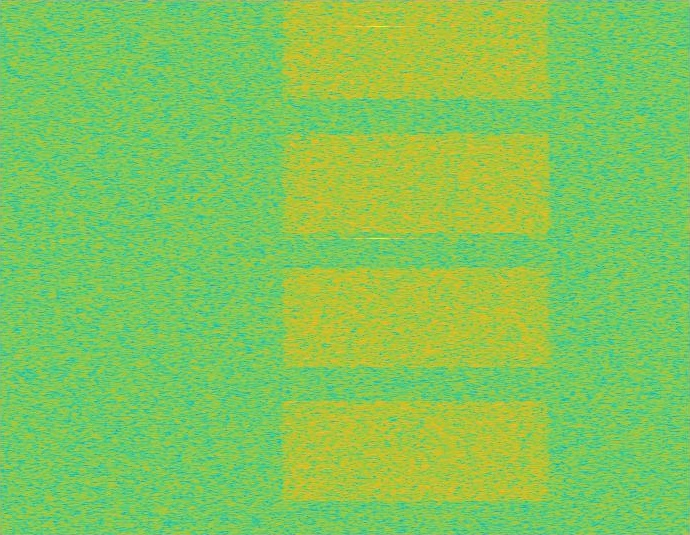5G: (278, 0, 554, 534)
Radar: (372, 0, 386, 534)
